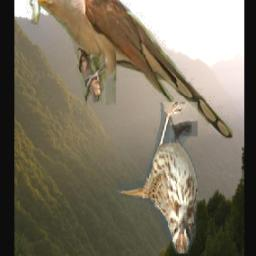Cuckoo: (26, 0, 234, 138)
Sparrow: (117, 103, 199, 255)
